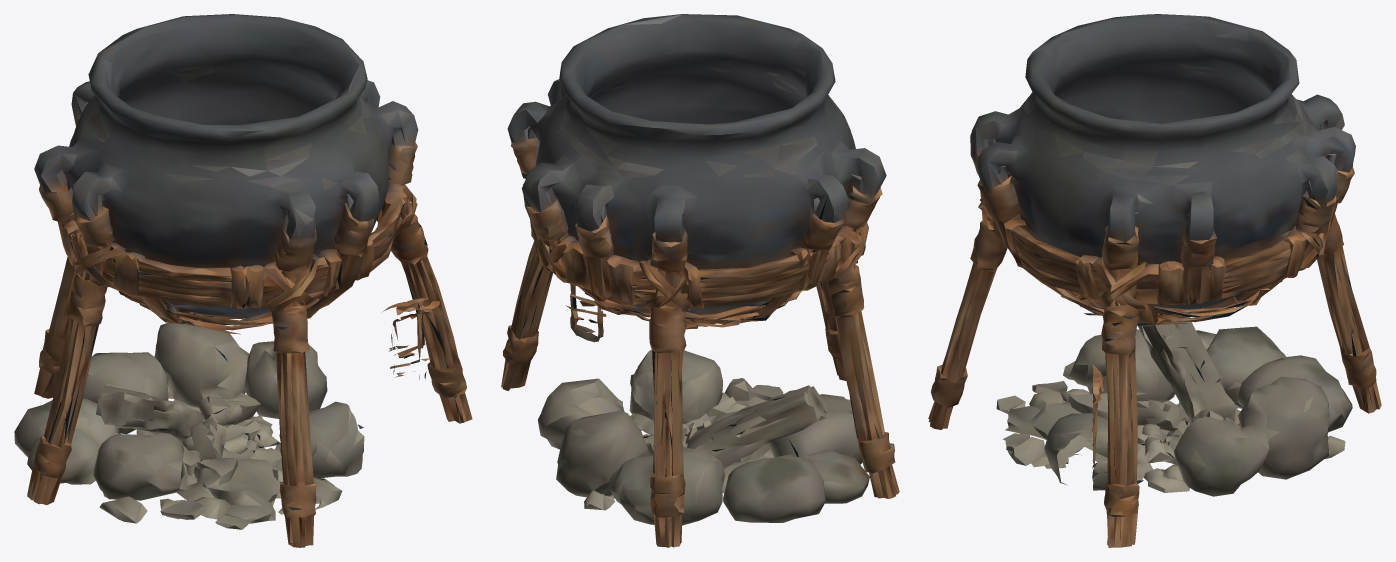
The model's file is Cauldron.glb.
3 renders of one model, left to right at view 1: azimuth 30°, elevation 25°; view 2: azimuth 150°, elevation 25°; view 3: azimuth 270°, elevation 25°, orthographic.
Parts seen in each view (by area): view 1: Cauldron; view 2: Cauldron; view 3: Cauldron.
Boxes of the visible parts, x1=… form: Cauldron: x1=14, y1=14, x2=472, y2=547; Cauldron: x1=501, y1=14, x2=899, y2=547; Cauldron: x1=928, y1=14, x2=1381, y2=547.
Bounding box in the file's own units: 1.29 × 1.15 × 1.24.
Materials: 1 (1 with a texture image).
